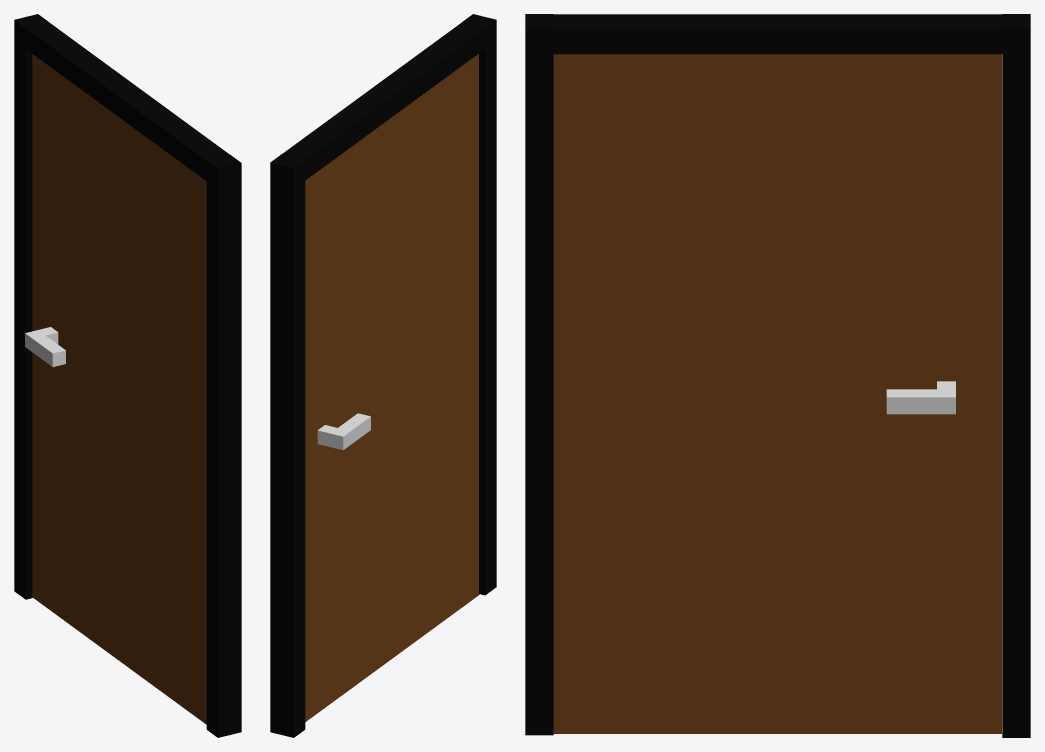
File: door.fbx
3 views of the same model, side by side, from view 1: azimuth 30°, elevation 25°; view 2: azimuth 150°, elevation 25°; view 3: azimuth 270°, elevation 25° (orthographic). The views are drawn at different scales.
Parts seen in each view (by area): view 1: Tuer.003, Ramenrechts.001, Rahmenlinks.001, Rahmenoben.001, klinke; view 2: Tuer.003, Rahmenlinks.001, Ramenrechts.001, Rahmenoben.001, klinke; view 3: Tuer.003, Rahmenlinks.001, Ramenrechts.001, Rahmenoben.001, klinke.
Boxes of the visible parts, left/top/right/bottom form: Tuer.003: left=32, top=54, right=206, bottom=724; Ramenrechts.001: left=206, top=154, right=241, bottom=737; Rahmenlinks.001: left=14, top=14, right=48, bottom=599; Rahmenoben.001: left=26, top=22, right=229, bottom=181; klinke: left=25, top=327, right=65, bottom=366; Tuer.003: left=305, top=54, right=479, bottom=721; Rahmenlinks.001: left=270, top=154, right=305, bottom=737; Ramenrechts.001: left=462, top=14, right=496, bottom=595; Rahmenoben.001: left=282, top=22, right=485, bottom=180; klinke: left=317, top=413, right=370, bottom=450; Tuer.003: left=553, top=54, right=1001, bottom=733; Rahmenlinks.001: left=1002, top=14, right=1030, bottom=737; Ramenrechts.001: left=525, top=14, right=553, bottom=735; Rahmenoben.001: left=553, top=14, right=1003, bottom=54; klinke: left=886, top=381, right=955, bottom=414.
Bounding box in the file's own units: 24.66 × 209 × 135.
